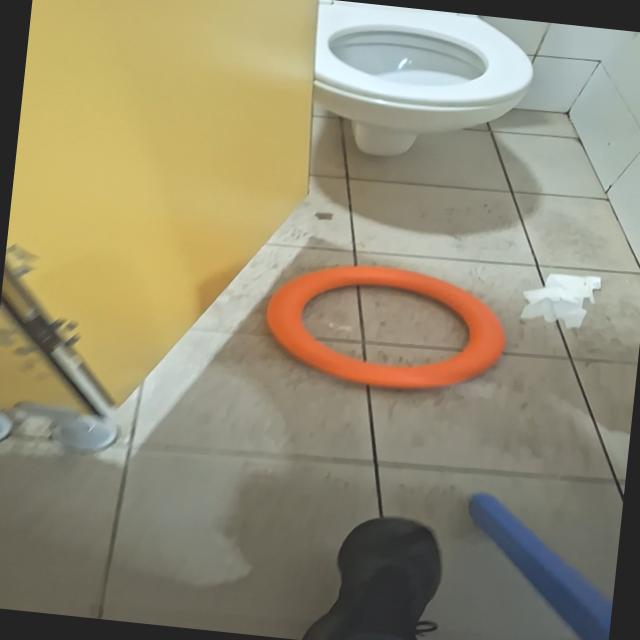note: (256, 252, 512, 400)
